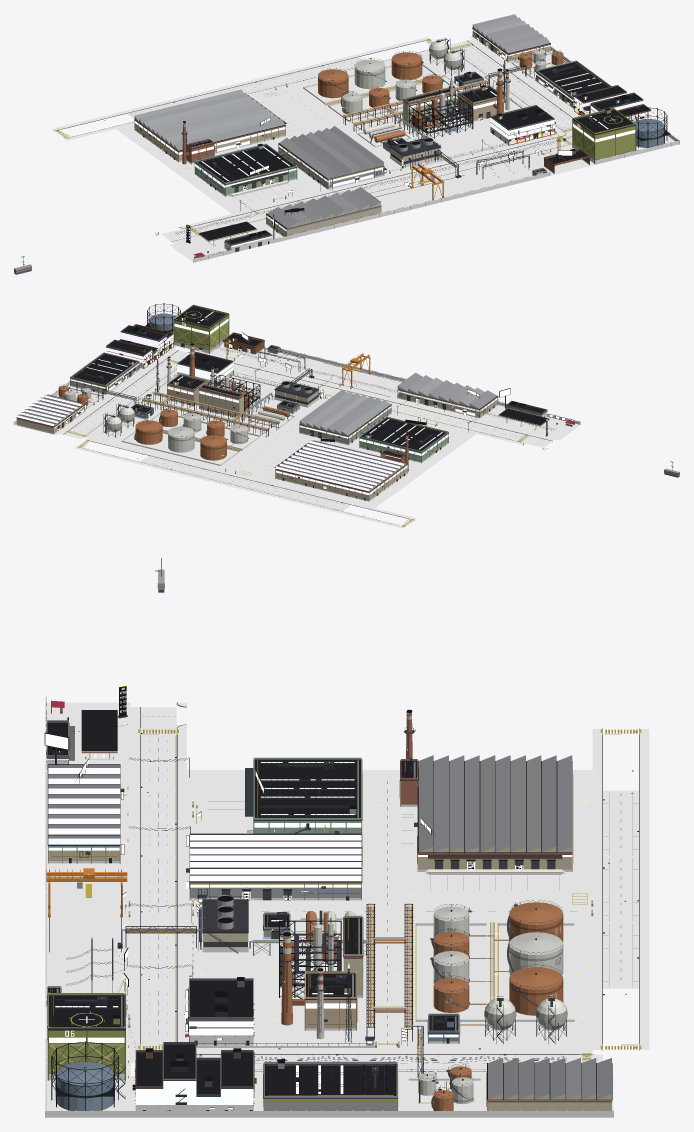
Rendered from world-high-santo.glb.
3 renders of one model, top to bottom at view 1: azimuth 30°, elevation 25°; view 2: azimuth 150°, elevation 25°; view 3: azimuth 270°, elevation 25°, orthographic. The views are drawn at different scales.
Visible parts, largest first — view 1: santo_trim, santo_sidewalk, santo_asphalt, santo_roof, santo_concrete, santo_metal, santo_facade, santo_dark, santo_metal_detail, santo_kerb, santo_trim_detail, santo_dark_detail (+6 smaller); view 2: santo_trim, santo_sidewalk, santo_asphalt, santo_facade, santo_roof, santo_metal, santo_concrete, santo_dark_detail, santo_dark, santo_kerb, santo_metal_detail, santo_trim_detail (+3 smaller); view 3: santo_trim, santo_sidewalk, santo_asphalt, santo_roof, santo_facade, santo_metal, santo_concrete, santo_dark_detail, santo_dark, santo_metal_detail, santo_trim_detail, santo_kerb (+5 smaller).
Part boxes in pixels (x1,y1,x2,y2): santo_trim: (53, 14, 664, 258); santo_sidewalk: (52, 36, 674, 243); santo_asphalt: (127, 40, 572, 261); santo_roof: (188, 62, 670, 244); santo_concrete: (134, 35, 678, 262); santo_metal: (134, 27, 635, 252); santo_facade: (134, 25, 651, 247); santo_dark: (183, 60, 667, 176); santo_metal_detail: (104, 37, 662, 248); santo_kerb: (54, 39, 572, 241); santo_trim_detail: (55, 33, 651, 235); santo_dark_detail: (174, 33, 679, 258); santo_trim: (16, 304, 574, 526); santo_sidewalk: (15, 343, 554, 528); santo_asphalt: (63, 350, 579, 511); santo_facade: (16, 318, 546, 494); santo_roof: (72, 305, 549, 457); santo_metal: (16, 311, 557, 495); santo_concrete: (14, 341, 579, 501); santo_dark_detail: (22, 315, 569, 503); santo_dark: (102, 303, 408, 437); santo_kerb: (63, 350, 552, 525); santo_metal_detail: (59, 313, 494, 515); santo_trim_detail: (65, 306, 529, 526); santo_trim: (46, 707, 639, 1110); santo_sidewalk: (45, 702, 649, 1110); santo_asphalt: (45, 702, 638, 1071); santo_roof: (47, 710, 458, 1096); santo_facade: (46, 759, 572, 1104); santo_metal: (47, 708, 612, 1103); santo_concrete: (46, 697, 612, 1117); santo_dark_detail: (48, 724, 638, 1099); santo_dark: (51, 709, 423, 1110); santo_metal_detail: (46, 727, 633, 1110); santo_trim_detail: (50, 729, 641, 1106); santo_kerb: (140, 702, 639, 1071).
Size of the model in its own units: 497 by 38.55 by 235.
